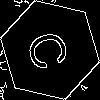C: (25, 25, 79, 74)
